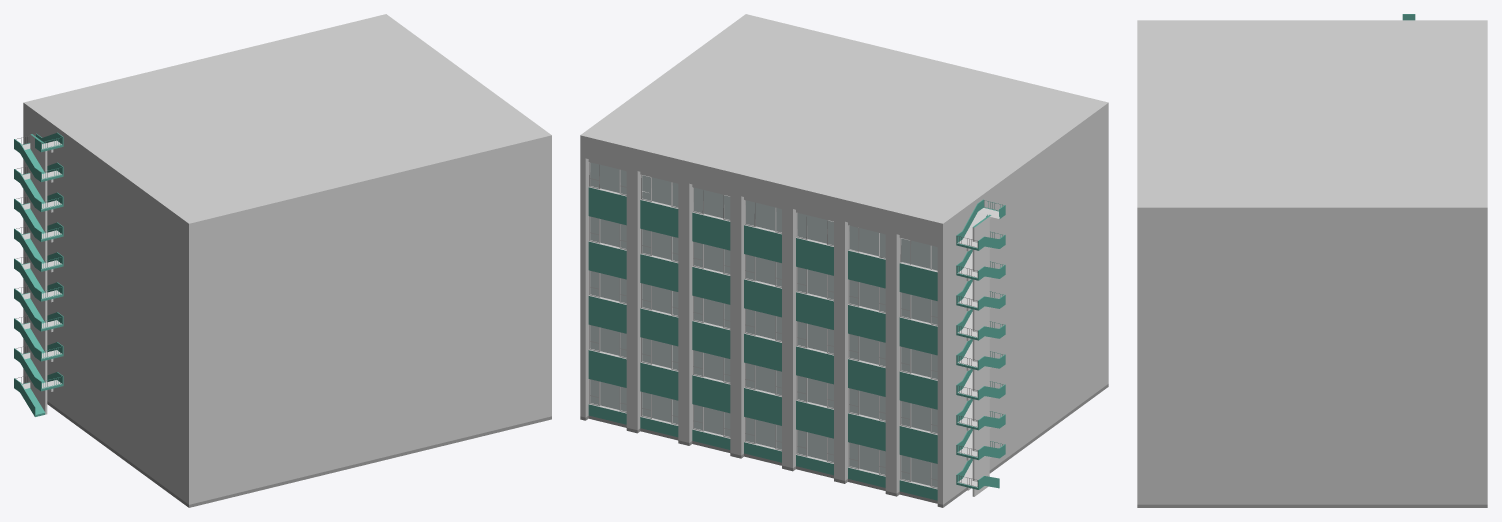
3 renders of one model, left to right at view 1: azimuth 30°, elevation 25°; view 2: azimuth 150°, elevation 25°; view 3: azimuth 270°, elevation 25°, orthographic. The views are drawn at different scales.
Visible parts, largest first — view 1: Cube, Cube.001; view 2: Cube, Cube.001; view 3: Cube.
Boxes of the visible parts, x1=… form: Cube: x1=23, y1=14, x2=551, y2=507; Cube.001: x1=14, y1=132, x2=63, y2=416; Cube: x1=580, y1=14, x2=1108, y2=507; Cube.001: x1=956, y1=199, x2=1005, y2=496; Cube: x1=1137, y1=20, x2=1487, y2=507.
Size of the model in its own units: 65.86 by 46.4 by 49.04.
